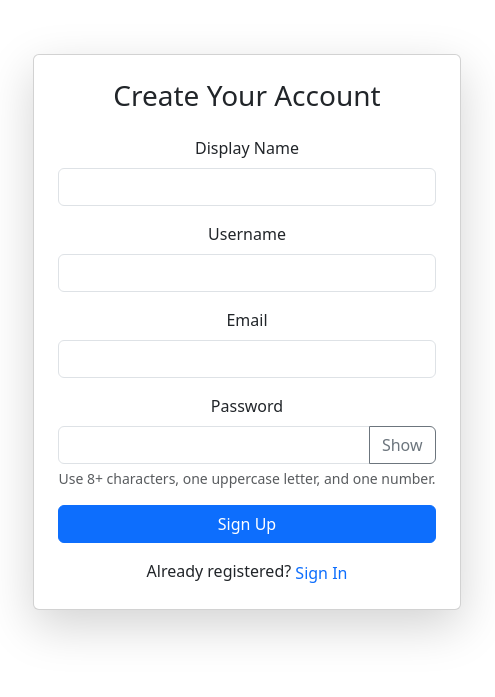
Scenario: successful signup flow
Type "John Doe" into the field labelled "Display Name" at (247, 187), box [58,168,436,206]
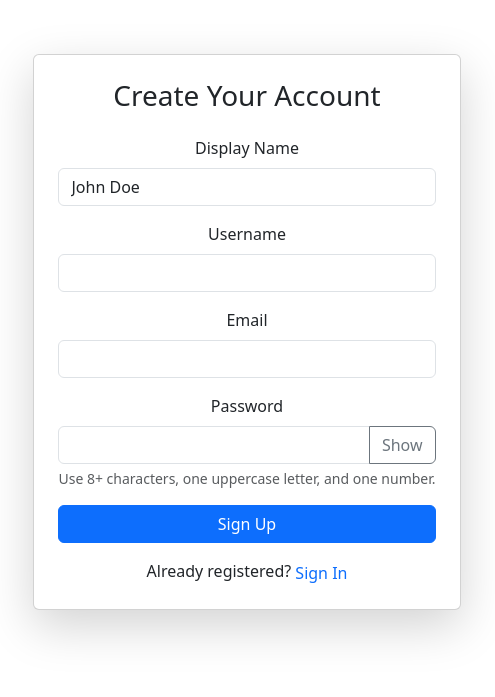
Type "johndoe" into the field labelled "Username" at (247, 273), box [58,254,436,292]
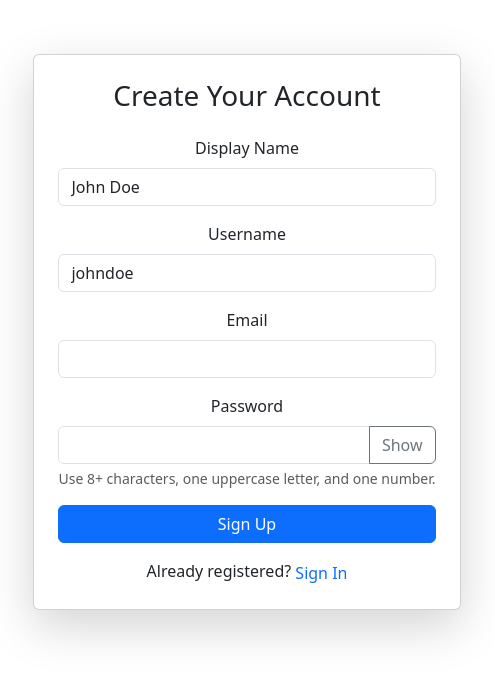
Type "john@example.com" into the field labelled "Email" at (247, 359), box [58,340,436,378]
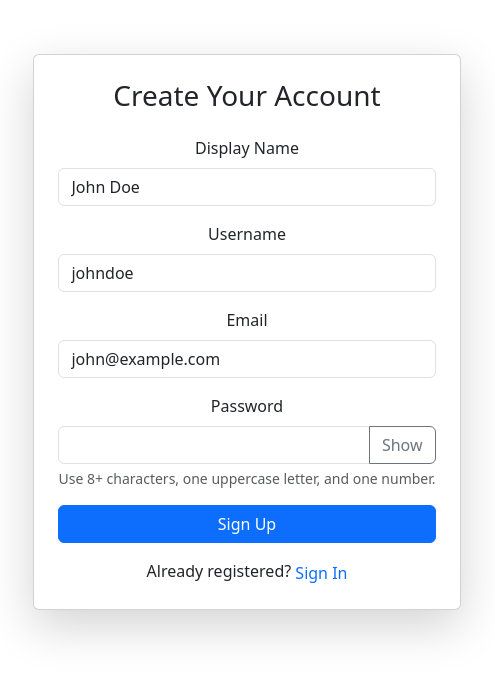
Type "StrongPass1" into the password field labelled "Password" at (214, 445), box [58,426,370,464]
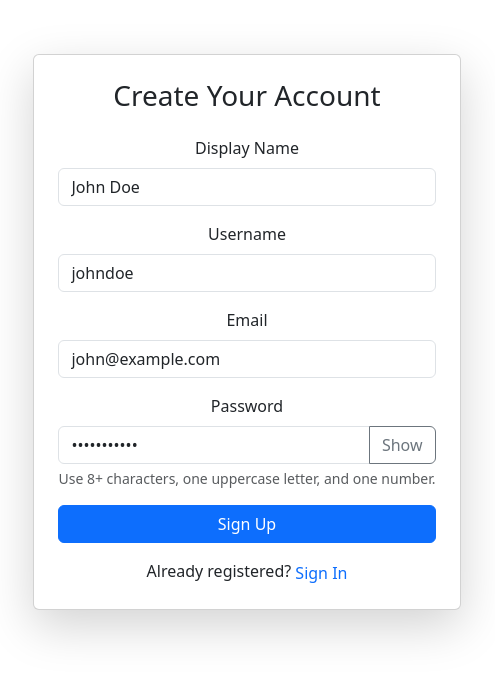
Click the button "Sign Up" at (247, 524), box [58,505,436,543]
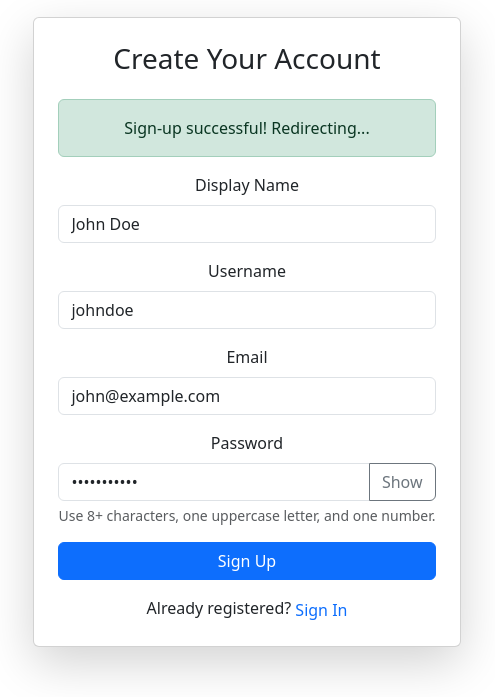
Expected: the text "Sign-up successful! Redirecting..." is shown, [58,99,436,157]
